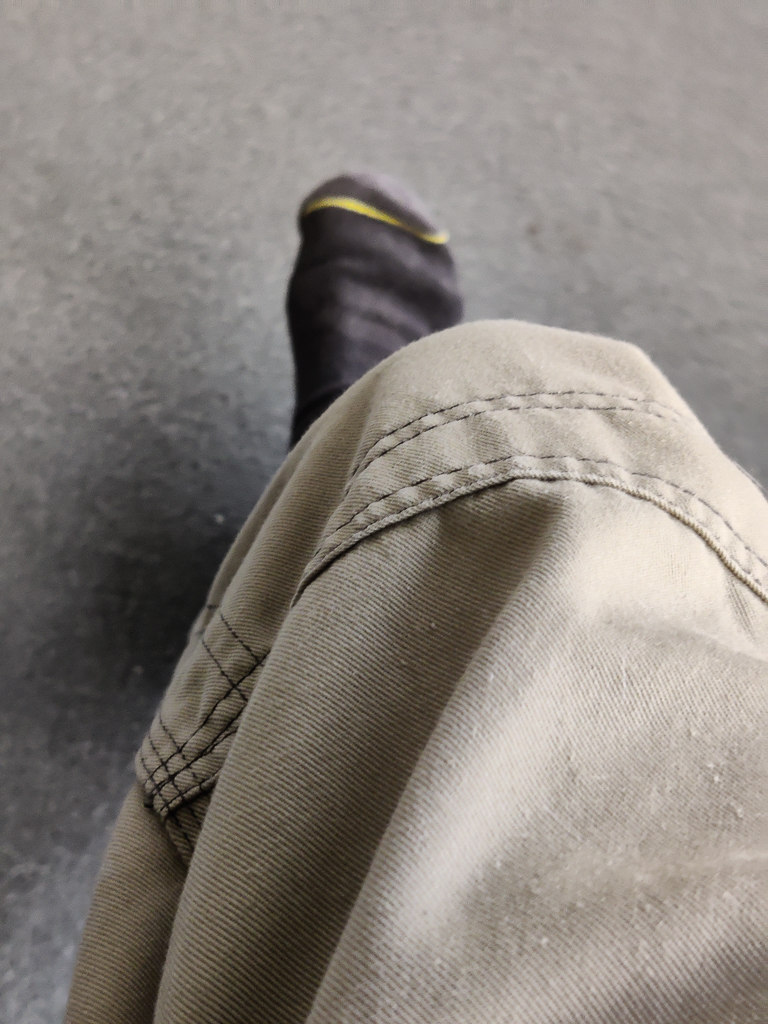Humanoid: (44, 156, 768, 1024)
